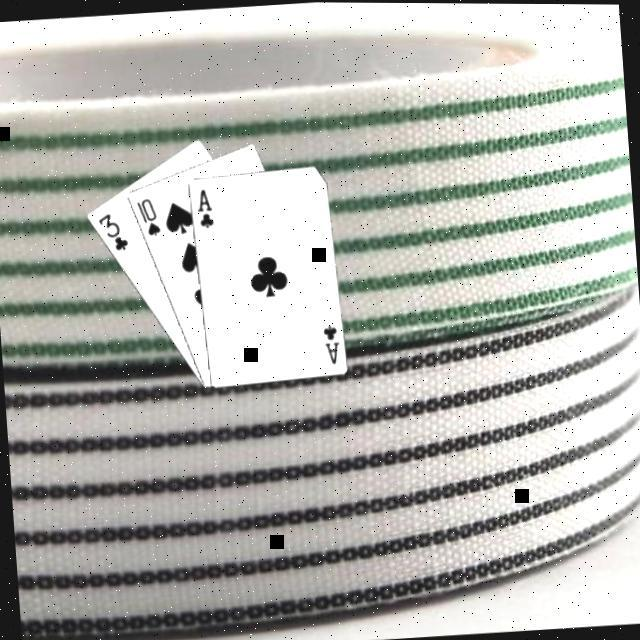10S: (131, 192, 163, 238)
3C: (93, 207, 130, 253)
AC: (317, 319, 342, 366), (190, 184, 215, 229)
